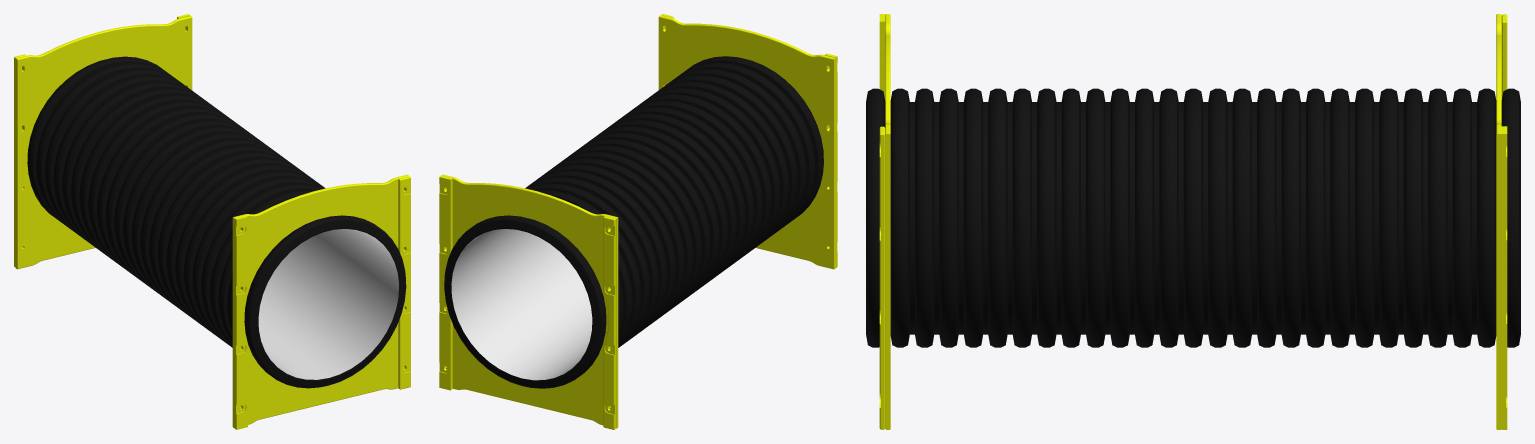
The picture shows the model from 3 angles, left to right: view 1: azimuth 30°, elevation 25°; view 2: azimuth 150°, elevation 25°; view 3: azimuth 270°, elevation 25°; orthographic projection. The views are drawn at different scales.
Parts seen in each view (by area): view 1: Bryła1 (×2), Bryła2 (×4), Bryła3 (×2); view 2: Bryła1 (×3), Bryła2 (×3), Bryła3 (×2); view 3: Bryła1 (×2), Bryła2 (×3), Bryła3 (×2).
Part boxes in pixels (bbox=[...]): Bryła1 (×2): bbox=[27, 56, 406, 429]; Bryła2 (×4): bbox=[14, 15, 410, 389]; Bryła3 (×2): bbox=[15, 159, 404, 428]; Bryła1 (×3): bbox=[439, 53, 837, 390]; Bryła2 (×3): bbox=[441, 15, 835, 429]; Bryła3 (×2): bbox=[445, 159, 835, 428]; Bryła1 (×2): bbox=[866, 88, 1520, 429]; Bryła2 (×3): bbox=[879, 14, 1501, 429]; Bryła3 (×2): bbox=[885, 278, 1501, 429].
Size of the model in its own units: 0.616 by 0.7288 by 1.42.
